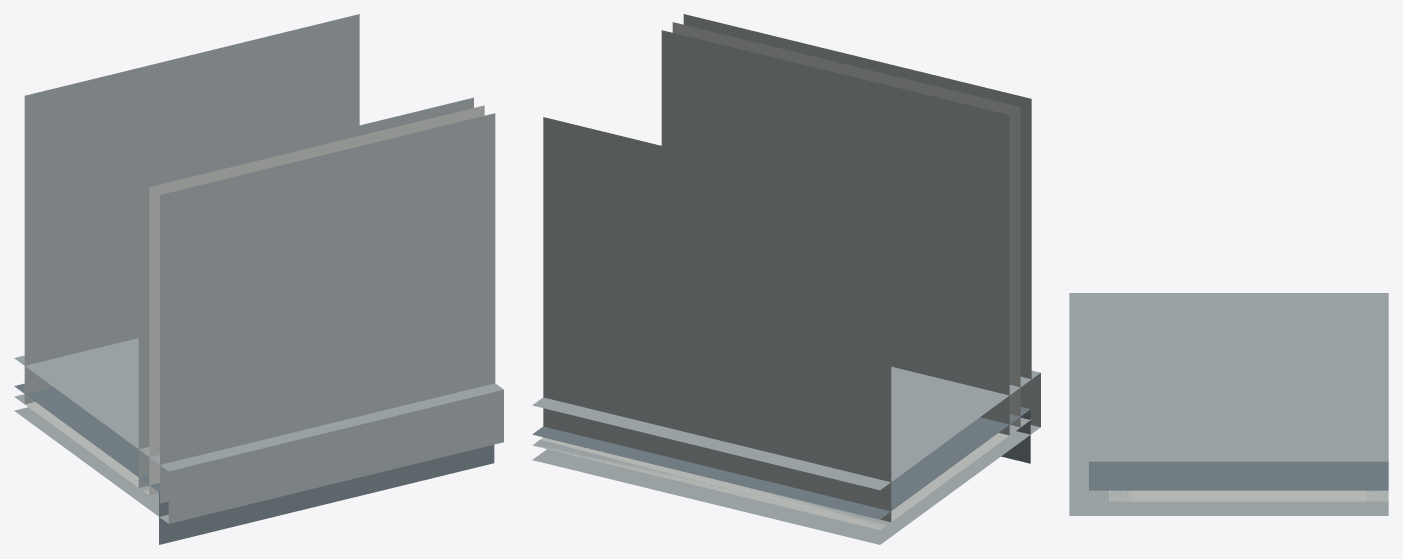
The model's file is cell_137.obj.
3 renders of one model, left to right at view 1: azimuth 30°, elevation 25°; view 2: azimuth 150°, elevation 25°; view 3: azimuth 270°, elevation 25°, orthographic. The views are drawn at different scales.
Size of the model in its own units: 1 by 1 by 0.8.
